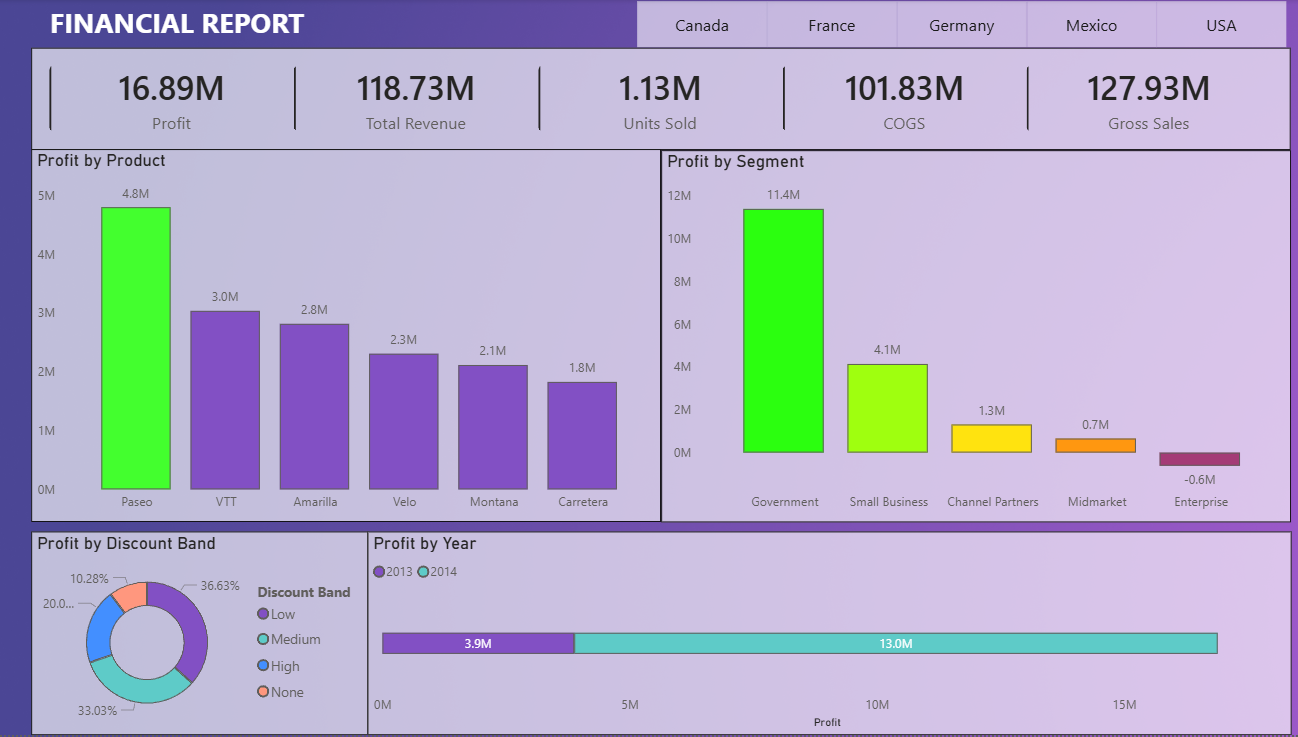

Layout of this report page (visuals, bound fields, positions):
{"tool":"powerbi","page":{"name":"Page 1","canvas":[1280,720],"ordinal":0},"visuals":[{"type":"advancedSlicerVisual","fields":{"Values":["financials.Country"]},"box":[627.3,1.2,640.8,47.7],"z":0},{"type":"columnChart","title":"Profit by Product","fields":{"Y":["Sum(financials.Profit)"],"Category":["financials.Product"]},"box":[35.5,146.7,616.3,364.4],"z":1000},{"type":"clusteredColumnChart","title":"Profit by Segment","fields":{"Category":["financials.Segment"],"Y":["Sum(financials.Profit)"]},"box":[651.8,148.2,616.1,363.6],"z":2000},{"type":"cardVisual","fields":{"Data":["Sum(financials.Profit)","Sum(financials. Sales)","Sum(financials.Units Sold)","Sum(financials.COGS)","Sum(financials.Gross Sales)"]},"box":[35.7,48,1232.3,100.2],"z":3000},{"type":"donutChart","title":"Profit by Discount Band","fields":{"Category":["financials.Discount Band"],"Y":["Sum(financials.Profit)"]},"box":[35.7,521.4,329.3,199],"z":4000},{"type":"barChart","fields":{"Y":["Sum(financials.Profit)"],"Series":["financials.Date.Variation.Date Hierarchy.Year"]},"box":[364.4,520.9,903.7,199.3],"z":5000},{"type":"textbox","box":[48.9,0,275.1,47.7],"z":6000}]}

Visuals, with their boxes in screenshot pixels (x1, y1, x2, y2), scaled from the page's 1280x720 canvas onto the 1298x737 screenshot:
advancedSlicerVisual - financials.Country: rect(636, 1, 1286, 50)
"Profit by Product" columnChart: rect(36, 150, 661, 523)
"Profit by Segment" clusteredColumnChart: rect(661, 152, 1286, 524)
cardVisual - Sum(financials.Profit) x Sum(financials. Sales): rect(36, 49, 1286, 152)
"Profit by Discount Band" donutChart: rect(36, 534, 370, 736)
barChart - Sum(financials.Profit) x financials.Date.Variation.Date Hierarchy.Year: rect(370, 533, 1286, 736)
textbox: rect(50, 0, 329, 49)
